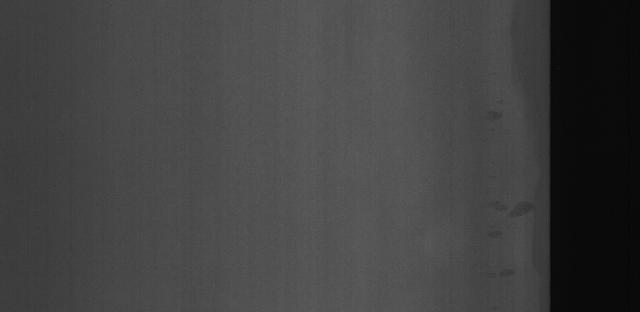oil_spot: (481, 196, 533, 232), (482, 101, 507, 133), (495, 260, 523, 285)
